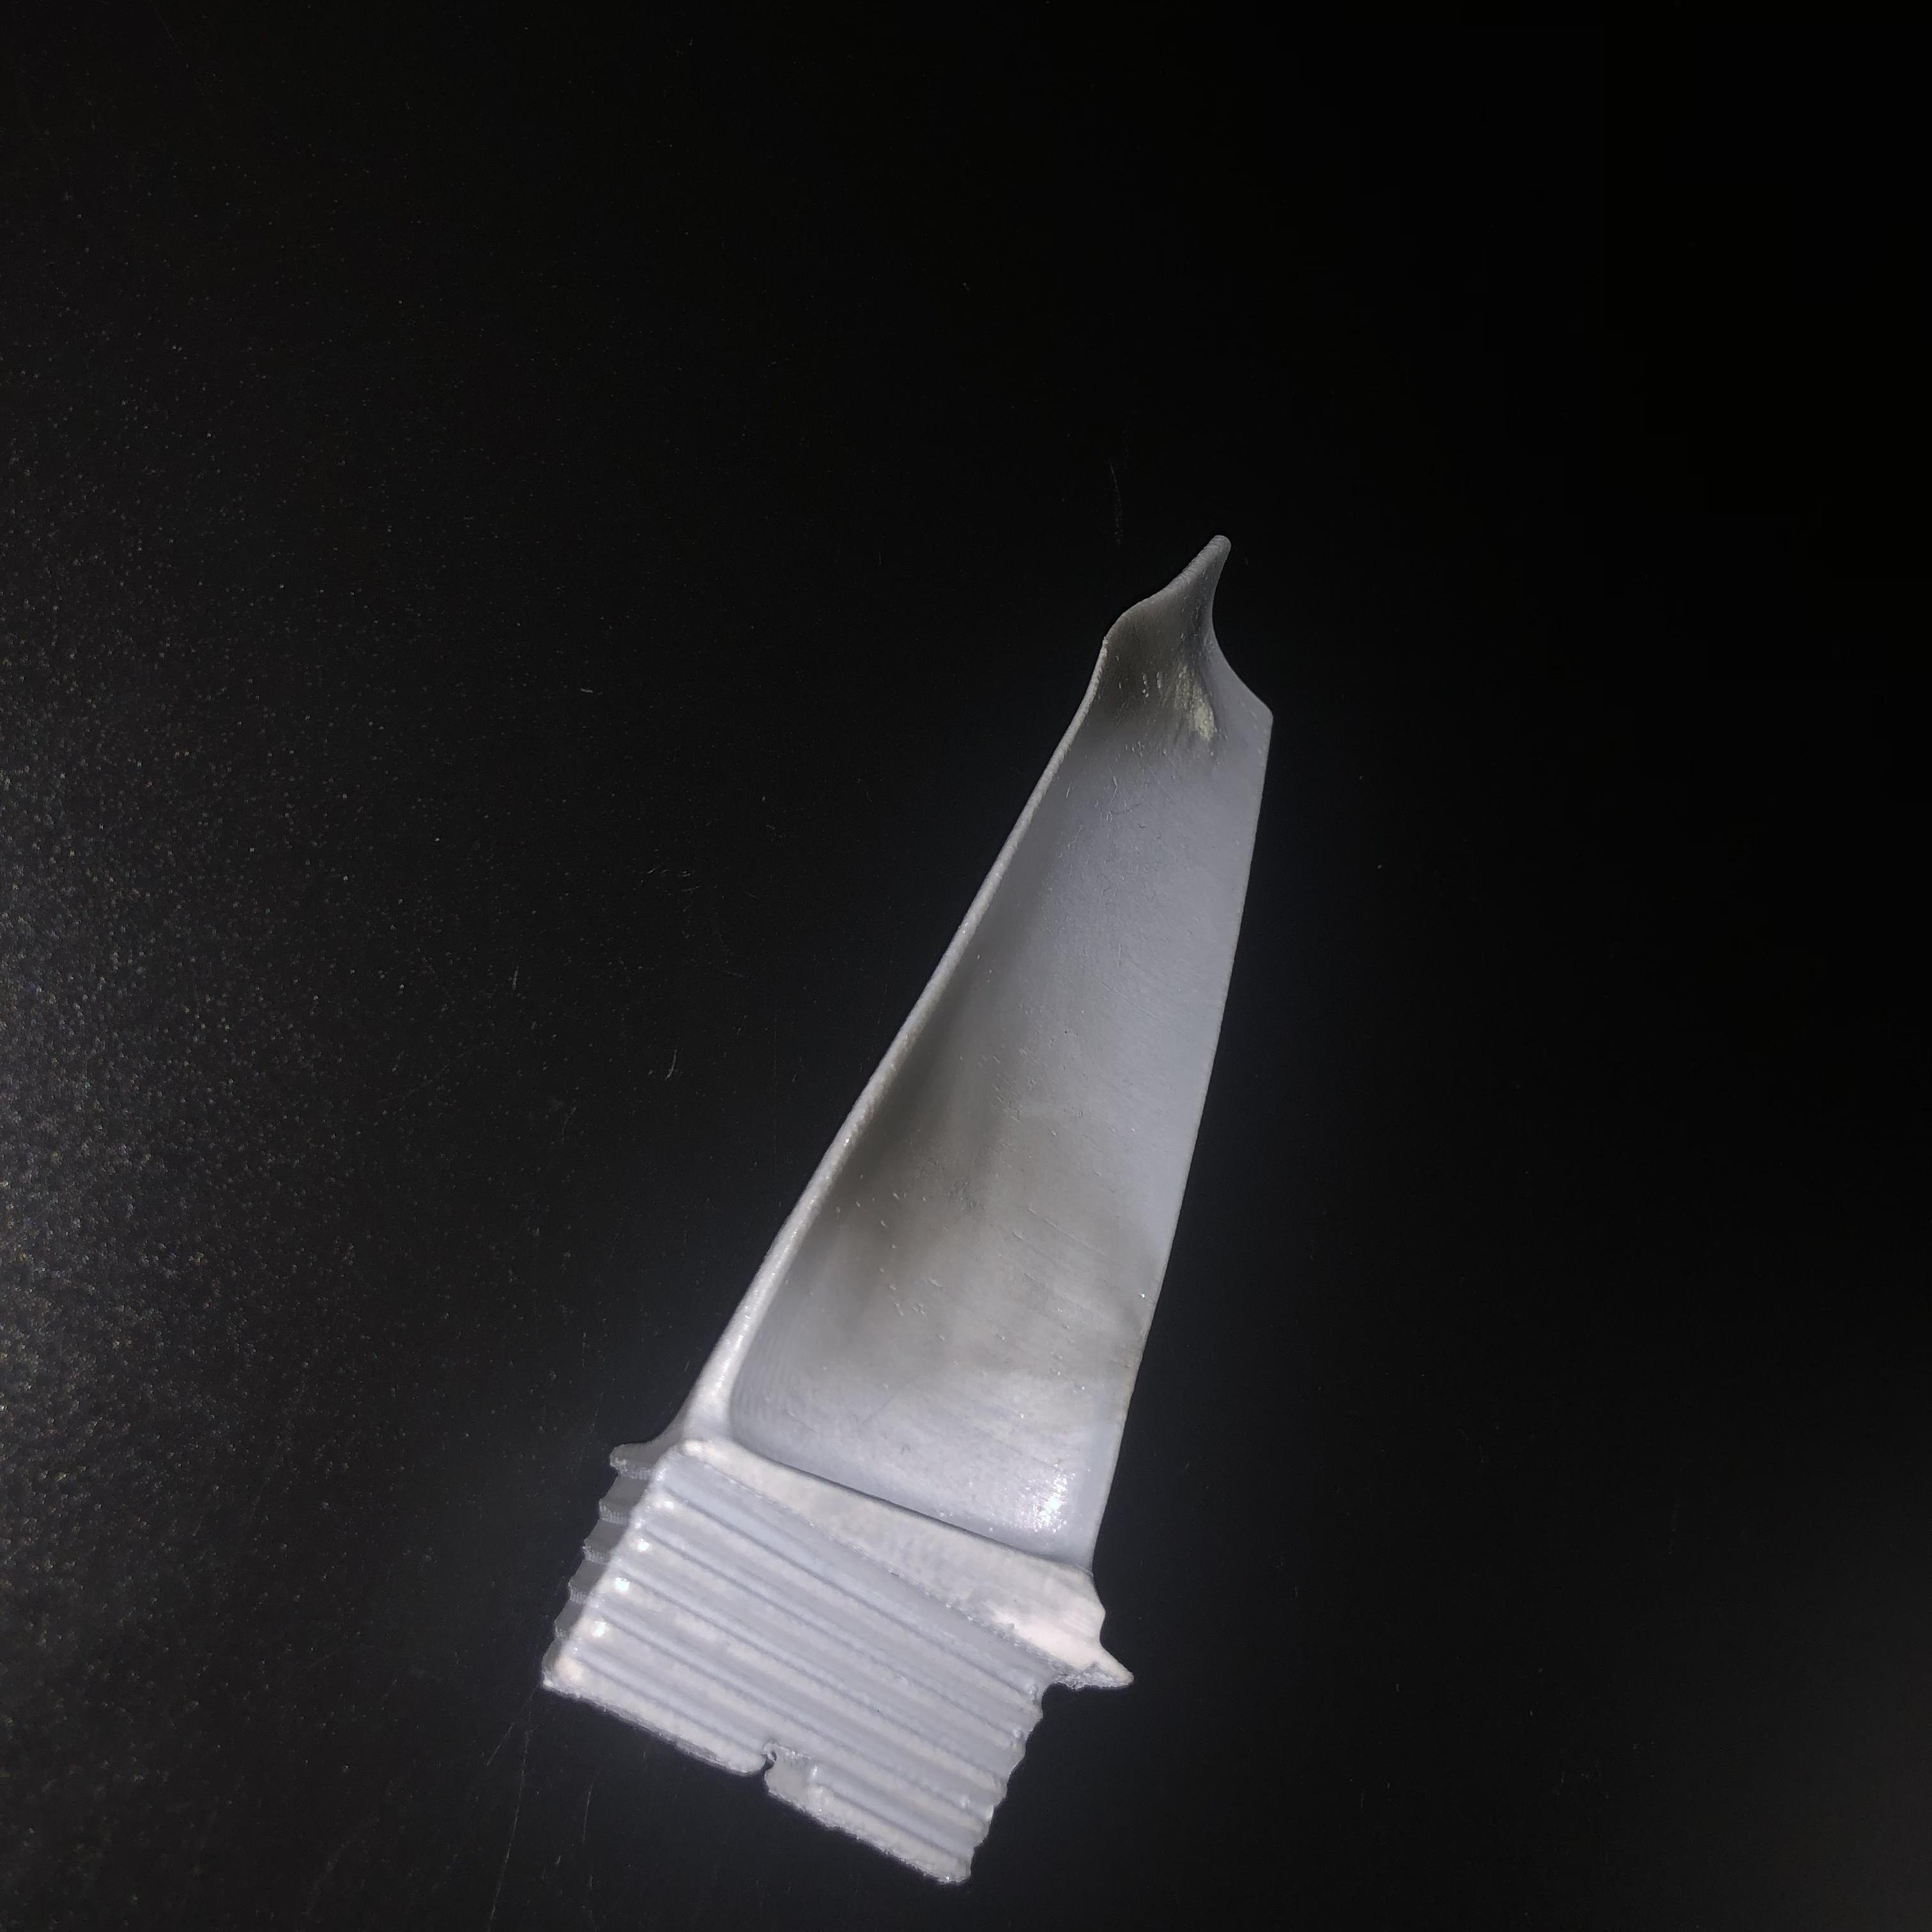ablation: (846, 1014, 1093, 1320), (1083, 575, 1242, 763)
